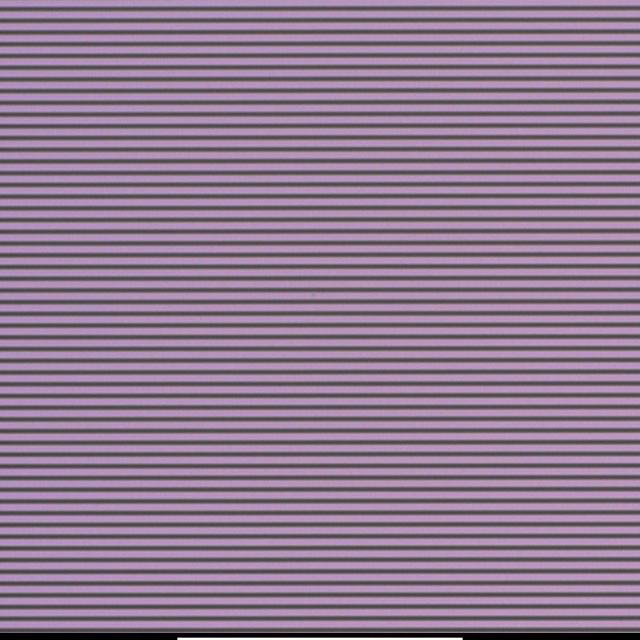nonvisual: (306, 289, 317, 300)
